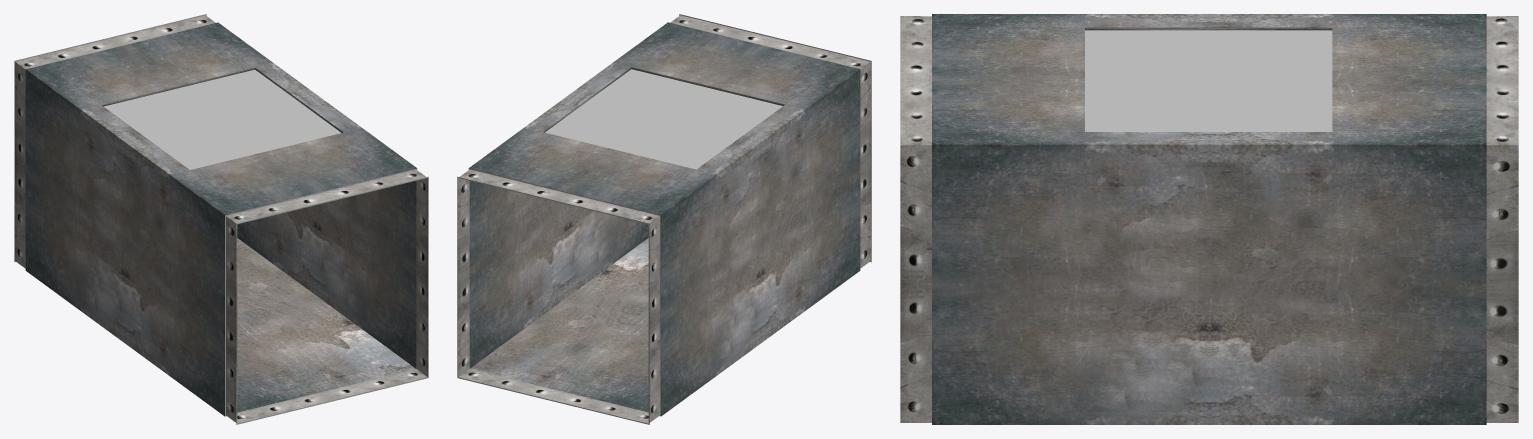
Rendered from vent02.fbx.
3 renders of one model, left to right at view 1: azimuth 30°, elevation 25°; view 2: azimuth 150°, elevation 25°; view 3: azimuth 270°, elevation 25°, orthographic. The views are drawn at different scales.
Parts seen in each view (by area): view 1: pPlane1; view 2: pPlane1; view 3: pPlane1.
Part boxes in pixels (x1=…): pPlane1: x1=14, y1=14, x2=428, y2=424; pPlane1: x1=457, y1=14, x2=871, y2=424; pPlane1: x1=900, y1=14, x2=1518, y2=424.
Bounding box in the file's own units: 1 × 1 × 2.
